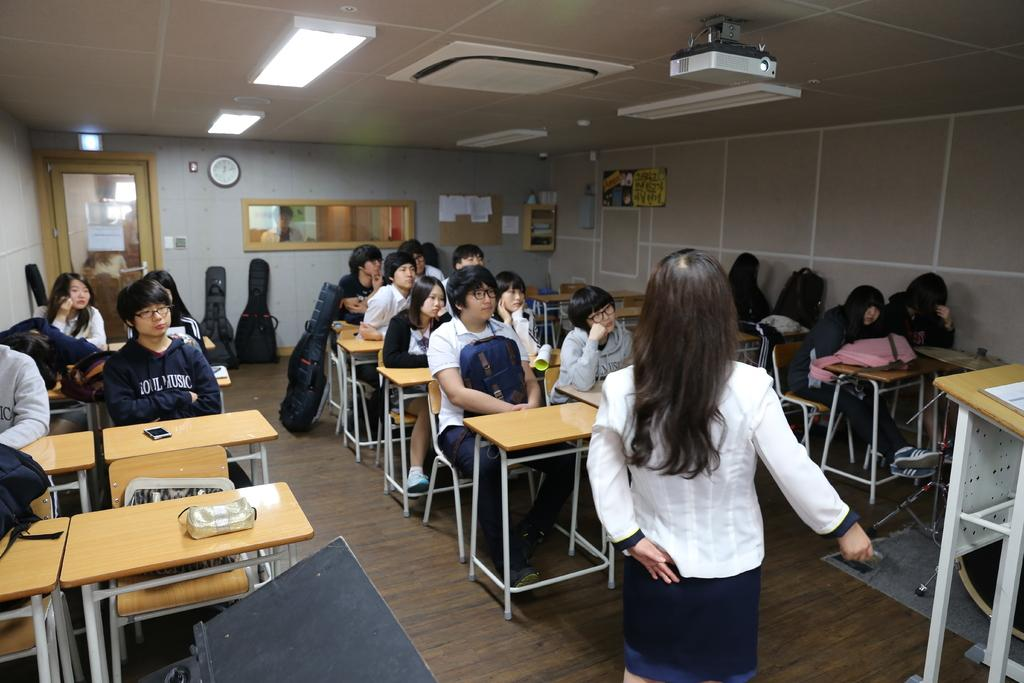Chair: (107, 440, 253, 651), (419, 379, 538, 567), (771, 338, 860, 463), (378, 347, 419, 513), (336, 327, 379, 447), (554, 281, 585, 352), (625, 294, 643, 336)
